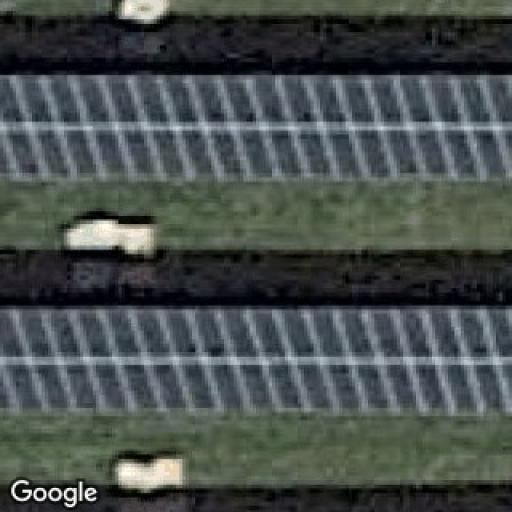solar-panel: (0, 302, 512, 421), (0, 72, 512, 187)
